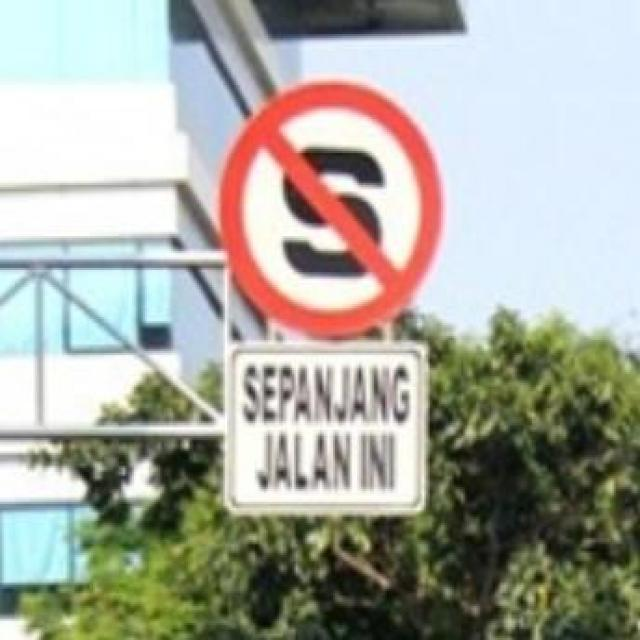traffic sign: (220, 85, 445, 340)
